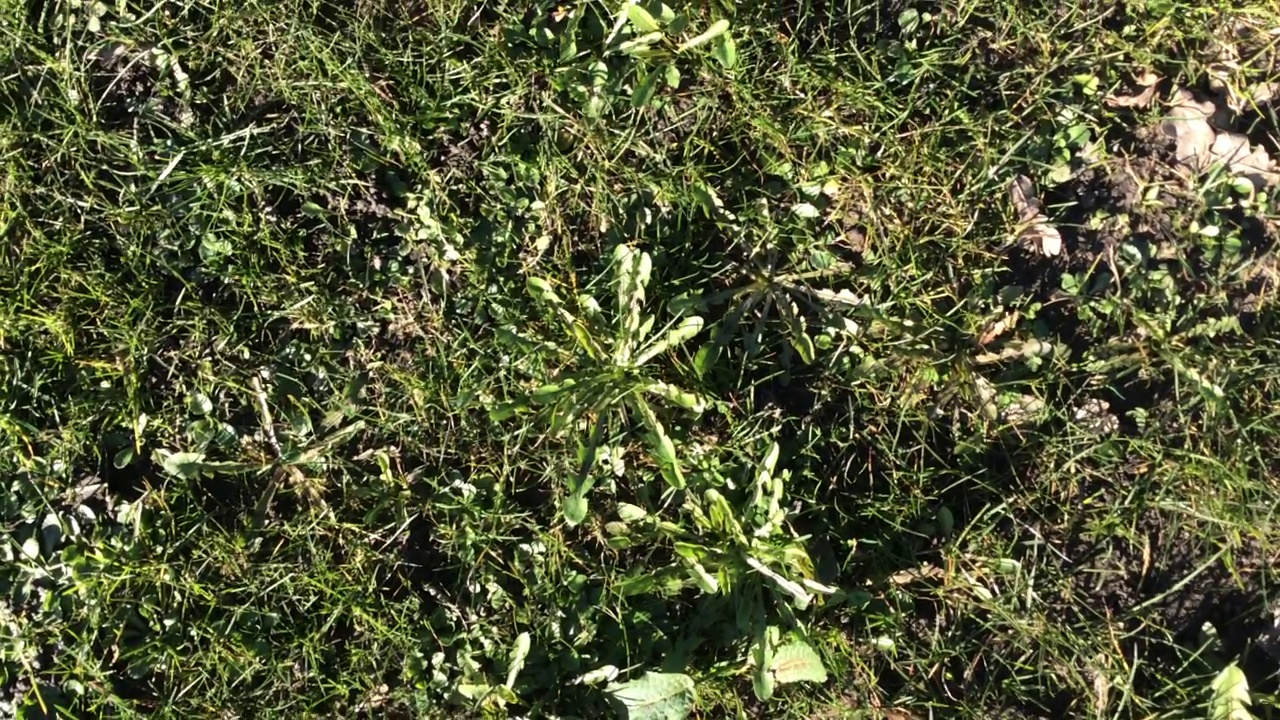rumex: (593, 673, 701, 720), (752, 641, 827, 684)
